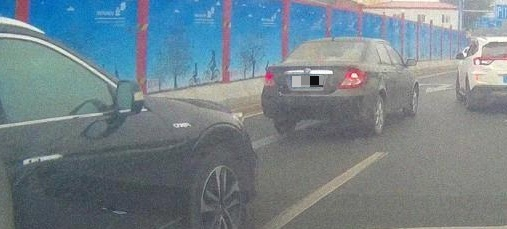L_light: (263, 70, 277, 86)
R_light: (339, 68, 365, 88)
T_light: (325, 41, 341, 45)
day-brake: (261, 37, 368, 135)
plate_1: (292, 76, 323, 87)
